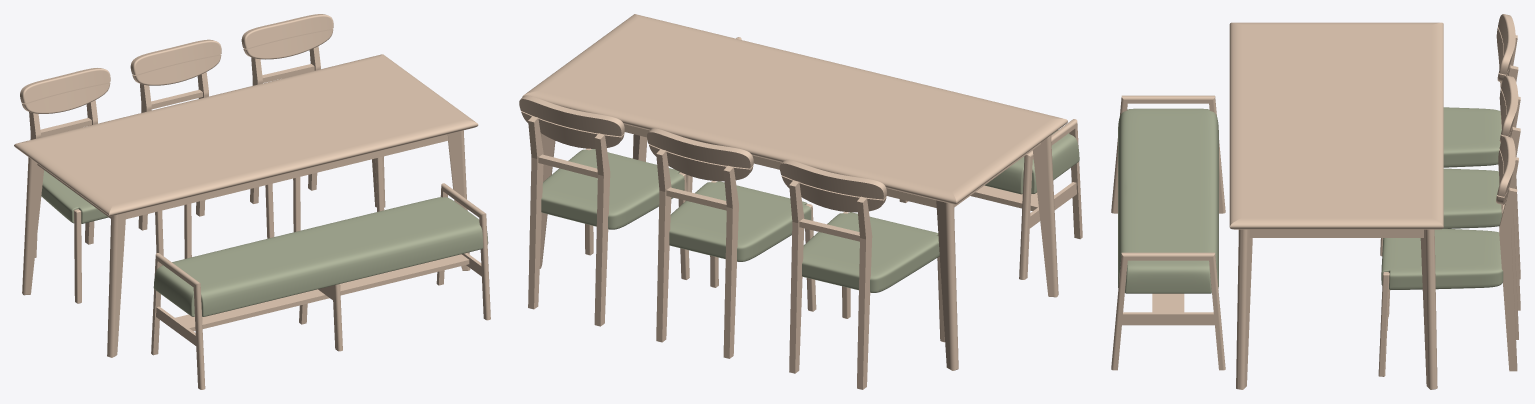
The model's file is 546_ダイニングテーブルセット6人掛け.glb.
3 views of the same model, side by side, from view 1: azimuth 30°, elevation 25°; view 2: azimuth 150°, elevation 25°; view 3: azimuth 270°, elevation 25° (orthographic). The views are drawn at different scales.
Visible parts, largest first — view 1: Body, bench, chair1, chair3, chair2; view 2: Body, chair1, chair2, chair3, bench; view 3: Body, bench, chair3, chair2, chair1.
Boxes of the visible parts, bbox=[...] form: Body: bbox=[14, 54, 478, 357]; bench: bbox=[151, 183, 490, 389]; chair1: bbox=[20, 68, 163, 303]; chair3: bbox=[241, 14, 384, 232]; chair2: bbox=[130, 39, 274, 258]; Body: bbox=[522, 14, 1067, 370]; chair1: bbox=[779, 159, 944, 389]; chair2: bbox=[647, 128, 816, 358]; chair3: bbox=[519, 95, 689, 326]; bench: bbox=[686, 37, 1082, 279]; Body: bbox=[1229, 22, 1443, 389]; bench: bbox=[1111, 95, 1225, 370]; chair3: bbox=[1378, 136, 1518, 376]; chair2: bbox=[1388, 75, 1520, 316]; chair1: bbox=[1380, 14, 1518, 256].
Bounding box in the file's own units: 1.8 × 0.8192 × 1.54.
